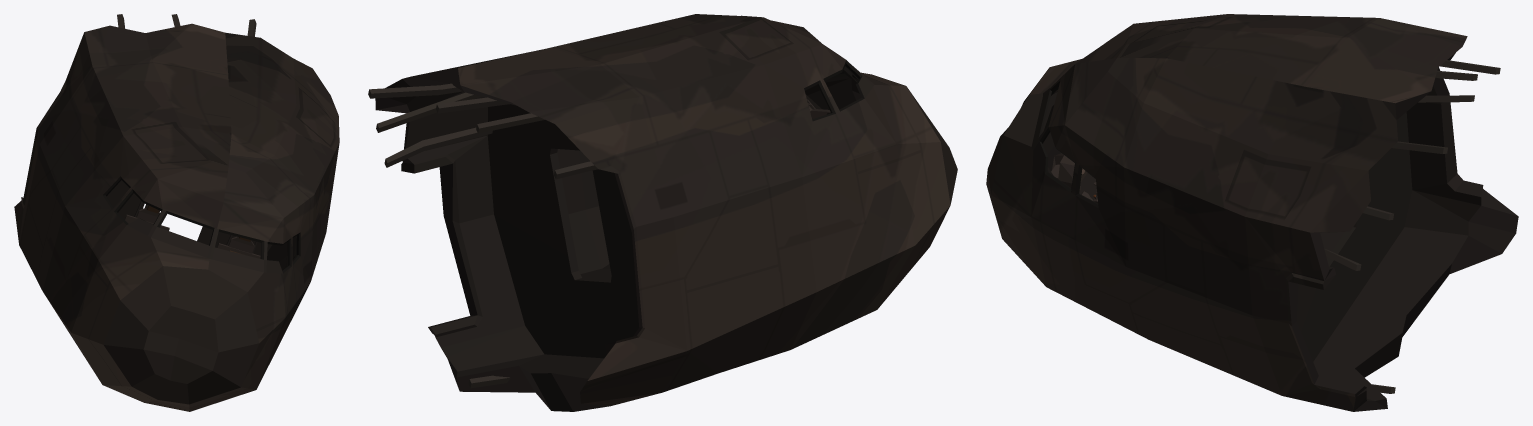
Rendered from SM_Veh_TransportPlane_Destroyed_Cockpit_01.fbx.
3 views of the same model, side by side, from view 1: azimuth 30°, elevation 25°; view 2: azimuth 150°, elevation 25°; view 3: azimuth 270°, elevation 25° (orthographic). The views are drawn at different scales.
Parts seen in each view (by area): view 1: SM_Veh_TransportPlane_Destroyed_Cockpit_01; view 2: SM_Veh_TransportPlane_Destroyed_Cockpit_01; view 3: SM_Veh_TransportPlane_Destroyed_Cockpit_01.
Boxes of the visible parts, x1,y1,x2,y2 form: SM_Veh_TransportPlane_Destroyed_Cockpit_01: (14,14,339,411); SM_Veh_TransportPlane_Destroyed_Cockpit_01: (368,14,957,411); SM_Veh_TransportPlane_Destroyed_Cockpit_01: (986,14,1518,411).
Size of the model in its own units: 787 by 606 by 904.
Materials: 1 (1 with a texture image).
